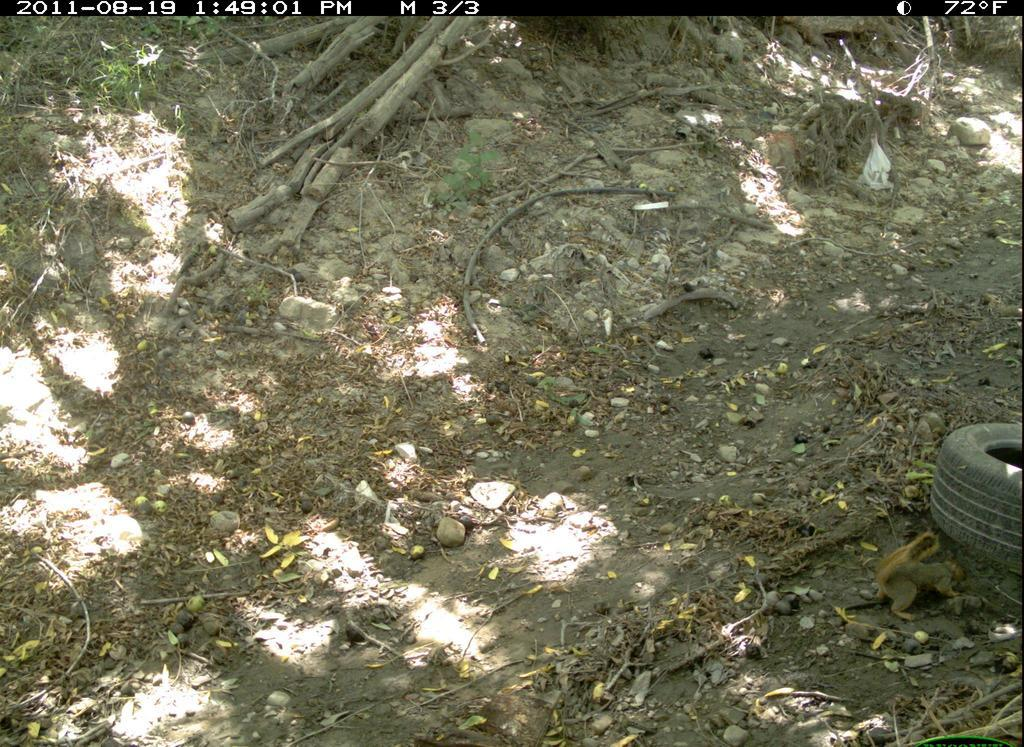squirrel: (872, 525, 978, 626)
